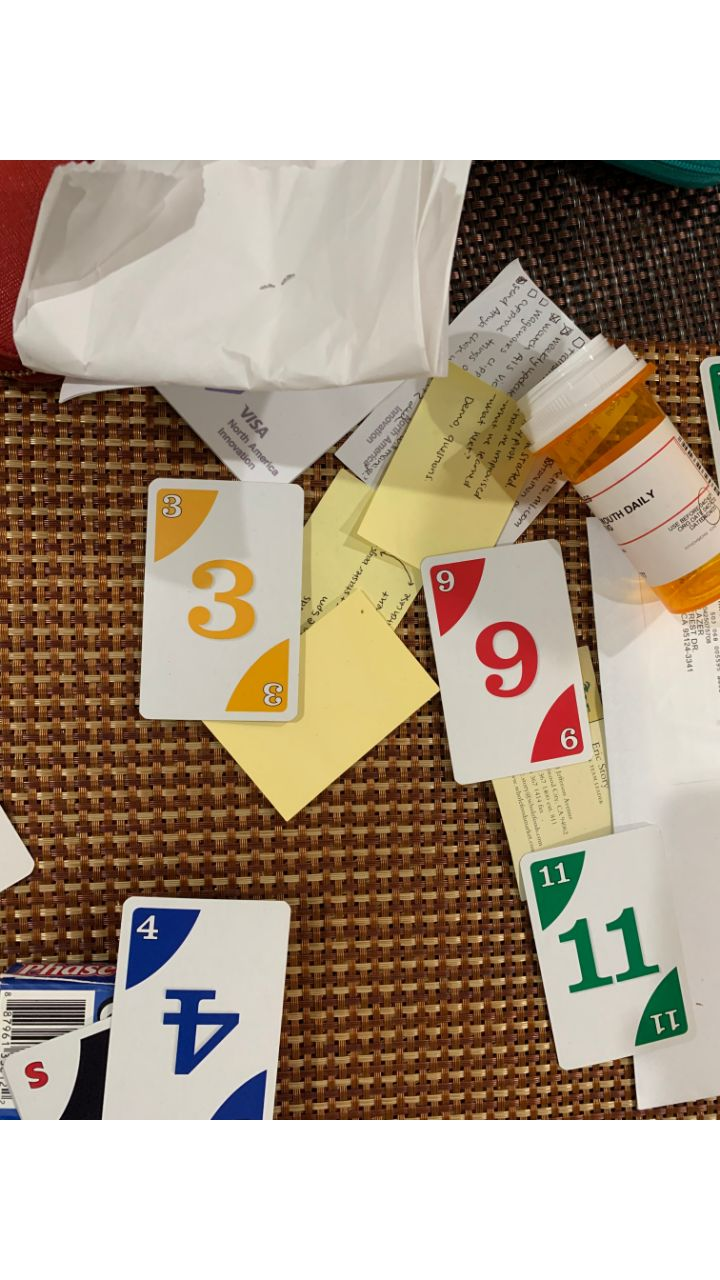eleven: (521, 825, 694, 1069)
nine: (421, 540, 594, 790)
three: (134, 476, 309, 723)
